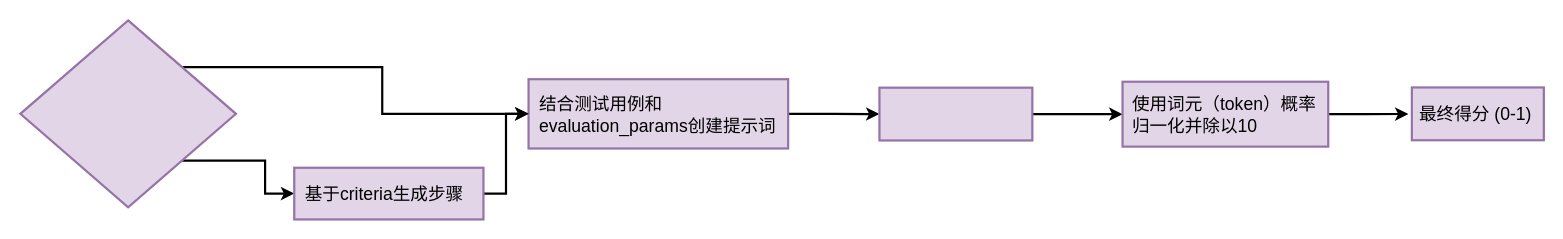
Image size: 1563x239. Some labels were removed from this diagram. Each missing label, with the box of its shape:
是否提供了evaluation_steps步骤？: (19, 19, 237, 208)
生成分数 (1-10): (878, 86, 1033, 141)
